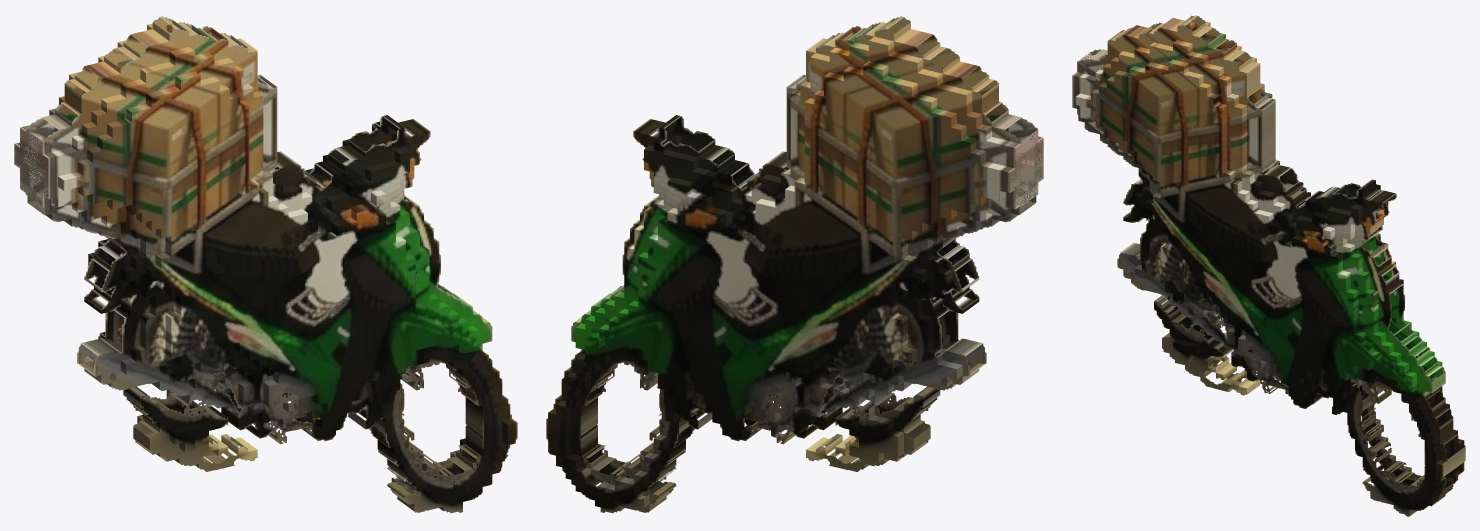
Rendered from veh_1.glb.
The picture shows the model from 3 angles, left to right: view 1: azimuth 30°, elevation 25°; view 2: azimuth 150°, elevation 25°; view 3: azimuth 330°, elevation 25°; orthographic projection. The views are drawn at different scales.
Parts seen in each view (by area): view 1: veh_1; view 2: veh_1; view 3: veh_1.
Boxes of the visible parts, box(x1,y1,x2,y2) form: veh_1: box(14, 16, 517, 513); veh_1: box(546, 16, 1043, 513); veh_1: box(1072, 15, 1465, 516).
Bounding box in the file's own units: 48 × 54 × 7.
Materials: 1 (1 with a texture image).
